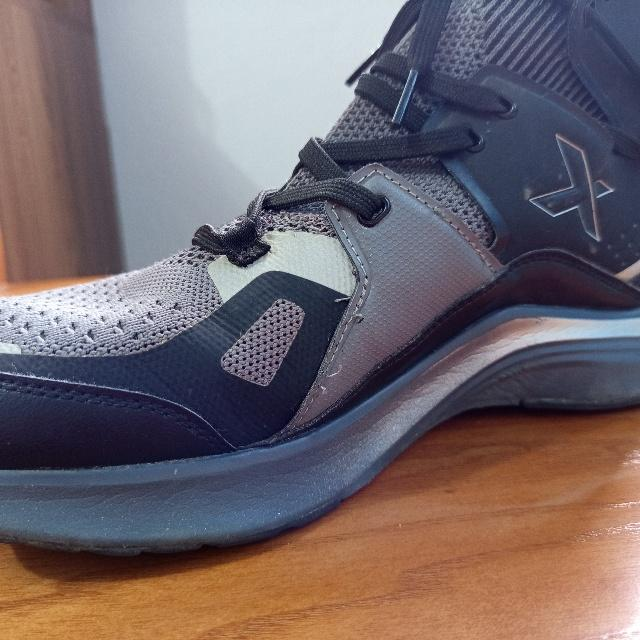broken: (313, 363, 343, 395), (430, 205, 448, 224)
